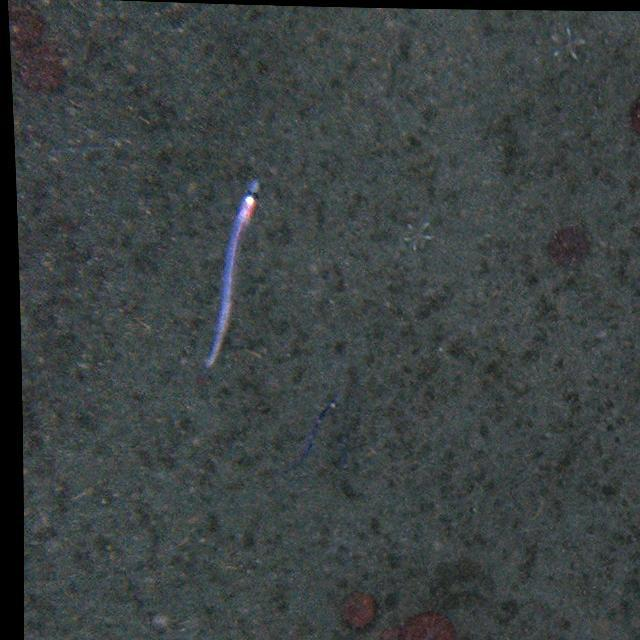roundfish: (204, 181, 264, 373)
